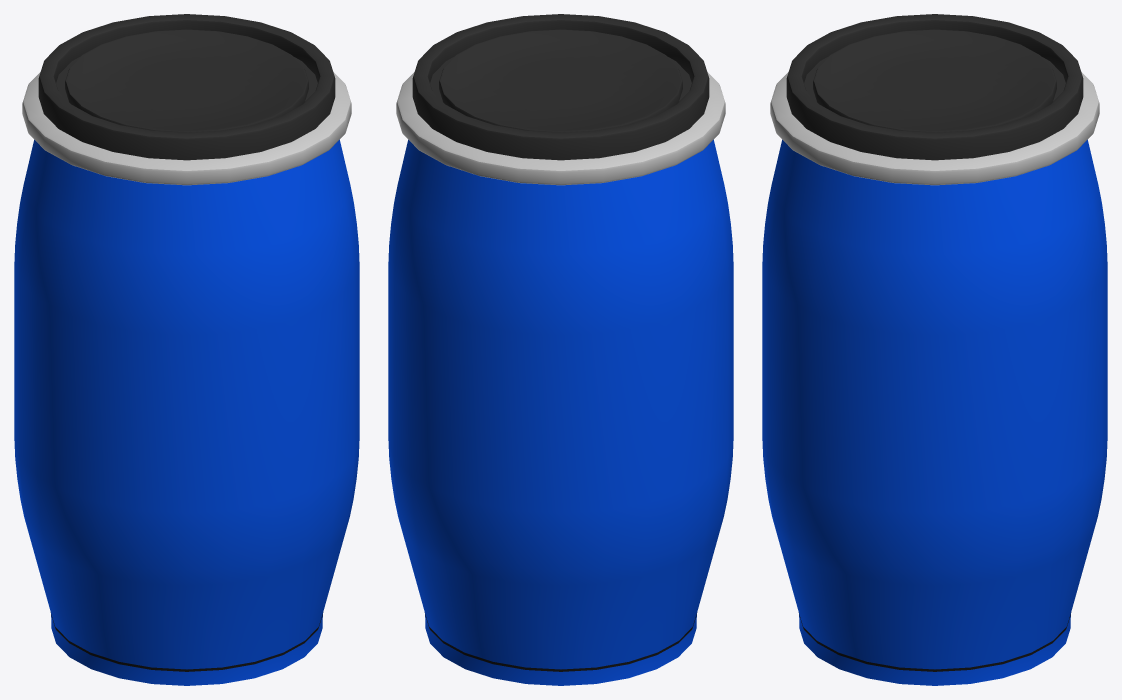
The model's file is Plastic_Barrel.glb.
The picture shows the model from 3 angles, left to right: view 1: azimuth 30°, elevation 25°; view 2: azimuth 150°, elevation 25°; view 3: azimuth 270°, elevation 25°; orthographic projection.
Parts seen in each view (by area): view 1: Plastic_Barrel; view 2: Plastic_Barrel; view 3: Plastic_Barrel.
Boxes of the visible parts, <box> form: Plastic_Barrel: <box>14,14,359,685</box>; Plastic_Barrel: <box>388,14,733,685</box>; Plastic_Barrel: <box>762,14,1107,685</box>.
Size of what is drawn, in the model's own units: 0.4629 by 0.8231 by 0.4629.
Materials: 1 (1 with a texture image).
